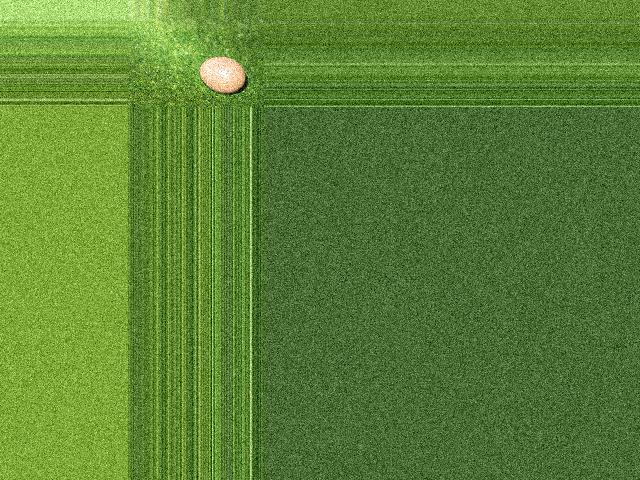egg: (198, 57, 245, 94)
